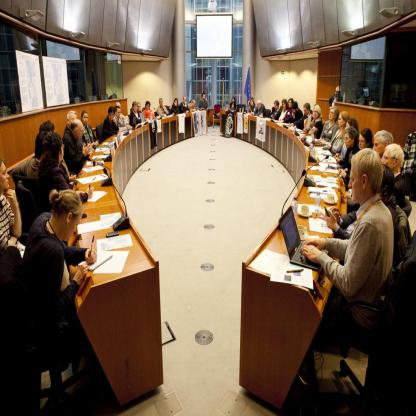board: (277, 203, 330, 271), (309, 126, 326, 147), (123, 116, 136, 131)
